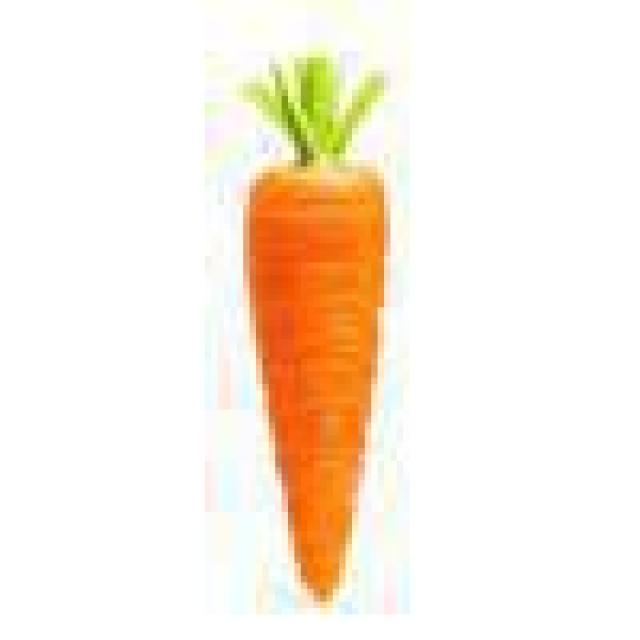Fresh_Carrot: (254, 170, 371, 596)
